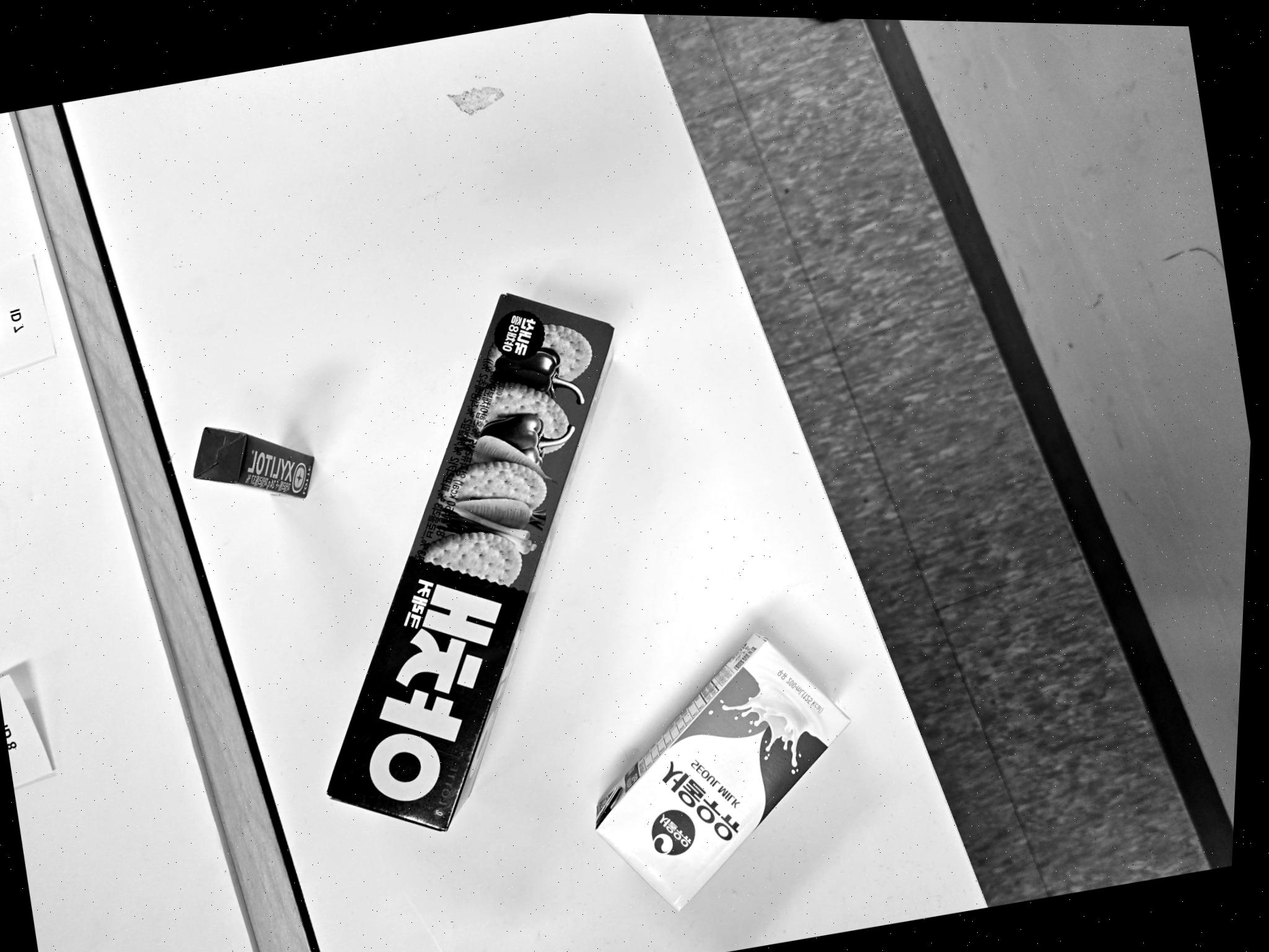cracker_vege: (328, 294, 613, 830)
gum_green: (193, 427, 314, 498)
milk_green: (597, 635, 849, 910)
